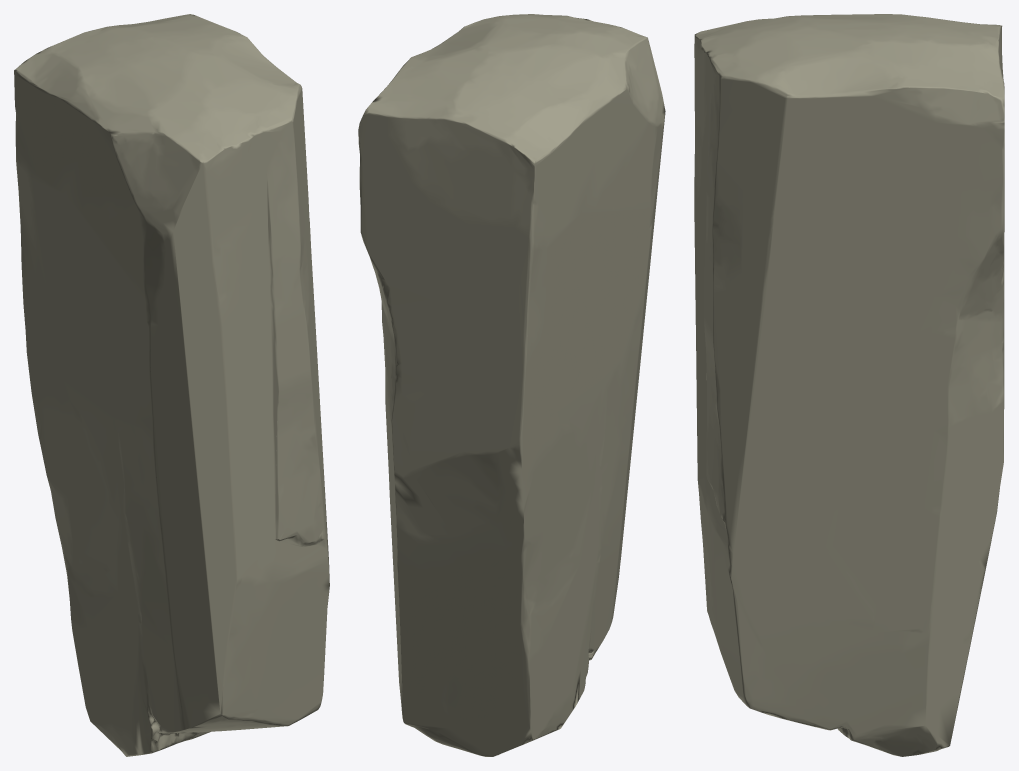
The picture shows the model from 3 angles, left to right: view 1: azimuth 30°, elevation 25°; view 2: azimuth 150°, elevation 25°; view 3: azimuth 270°, elevation 25°; orthographic projection. The views are drawn at different scales.
Visible parts, largest first — view 1: SM_BM_Cliff_02_LOD0; view 2: SM_BM_Cliff_02_LOD0; view 3: SM_BM_Cliff_02_LOD0.
Part boxes in pixels (x1,y1,x2,y2): SM_BM_Cliff_02_LOD0: (14,14,329,756); SM_BM_Cliff_02_LOD0: (358,14,665,756); SM_BM_Cliff_02_LOD0: (694,14,1004,756).
Bounding box in the file's own units: 11.51 × 42.58 × 16.97.
